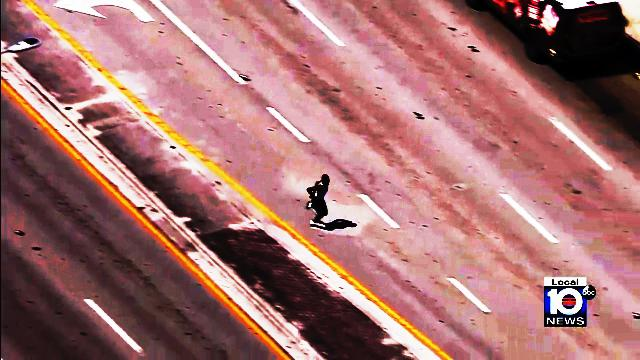berlari: (302, 171, 336, 233)
